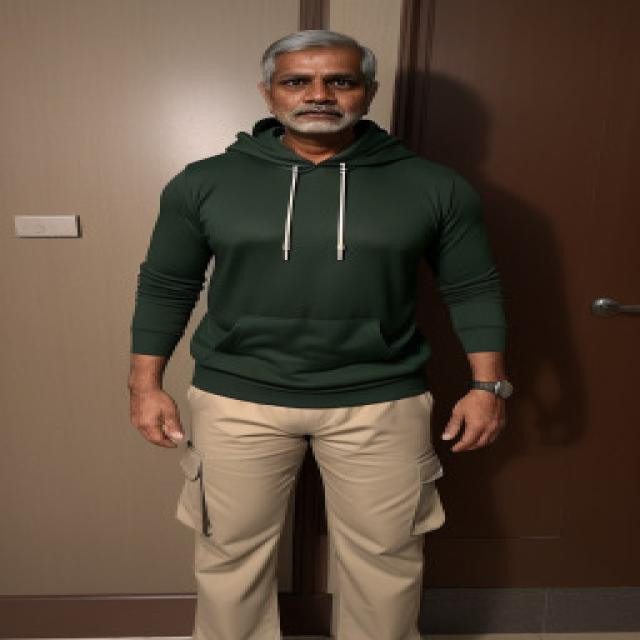Ai human 2: (115, 11, 535, 640)
